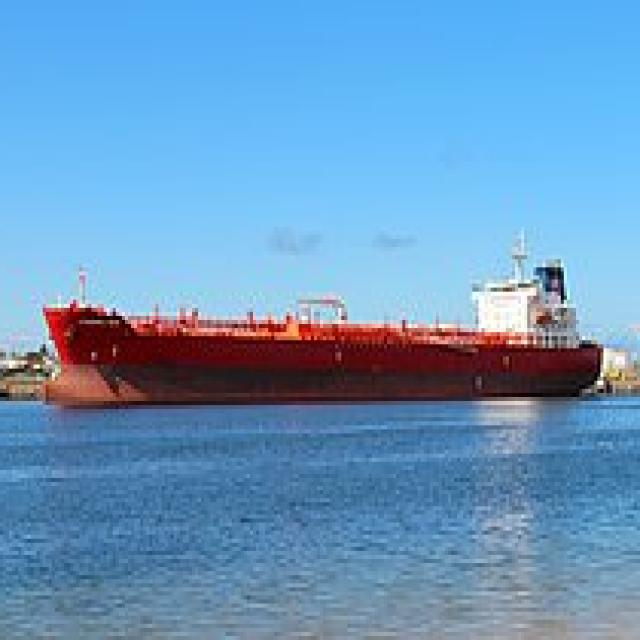Tanker: (42, 223, 610, 397)
